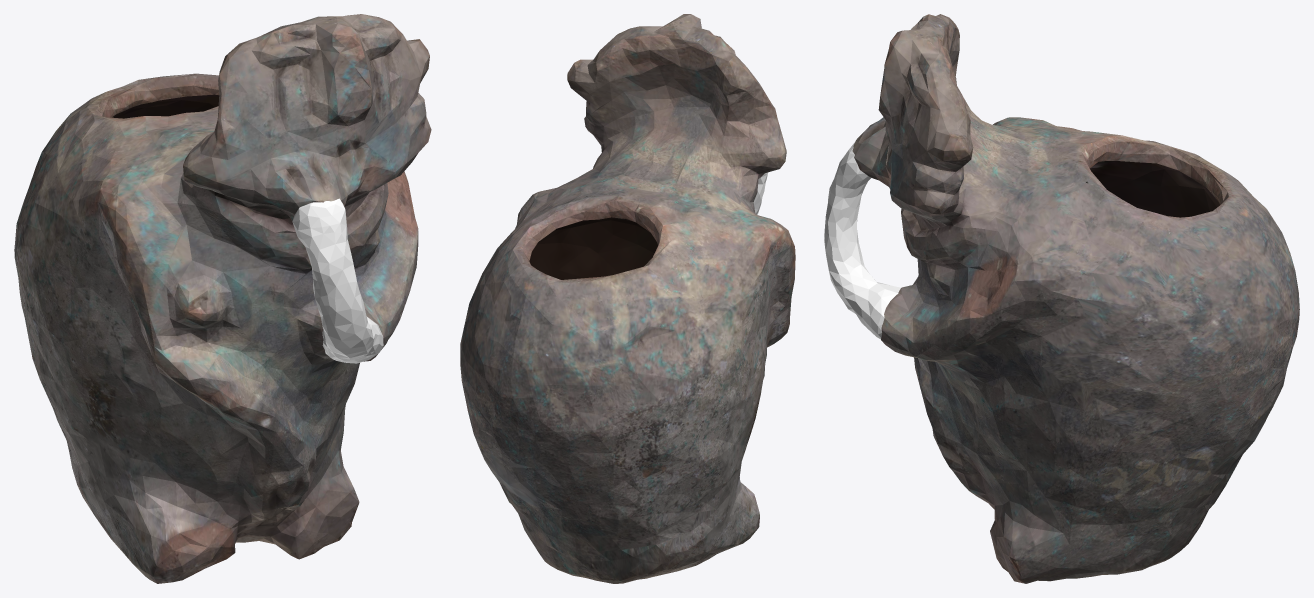
The picture shows the model from 3 angles, left to right: view 1: azimuth 30°, elevation 25°; view 2: azimuth 150°, elevation 25°; view 3: azimuth 270°, elevation 25°; orthographic projection. The views are drawn at different scales.
Parts seen in each view (by area): view 1: MA0774, Cube; view 2: MA0774; view 3: MA0774, Cube.
Part boxes in pixels (<box>): MA0774: <box>14,14,431,583</box>; Cube: <box>292,198,383,363</box>; MA0774: <box>460,14,795,583</box>; MA0774: <box>852,14,1299,583</box>; Cube: <box>824,142,900,339</box>.
Bounding box in the file's own units: 0.8179 × 1.48 × 1.21.
Materials: 2 (1 with a texture image).
